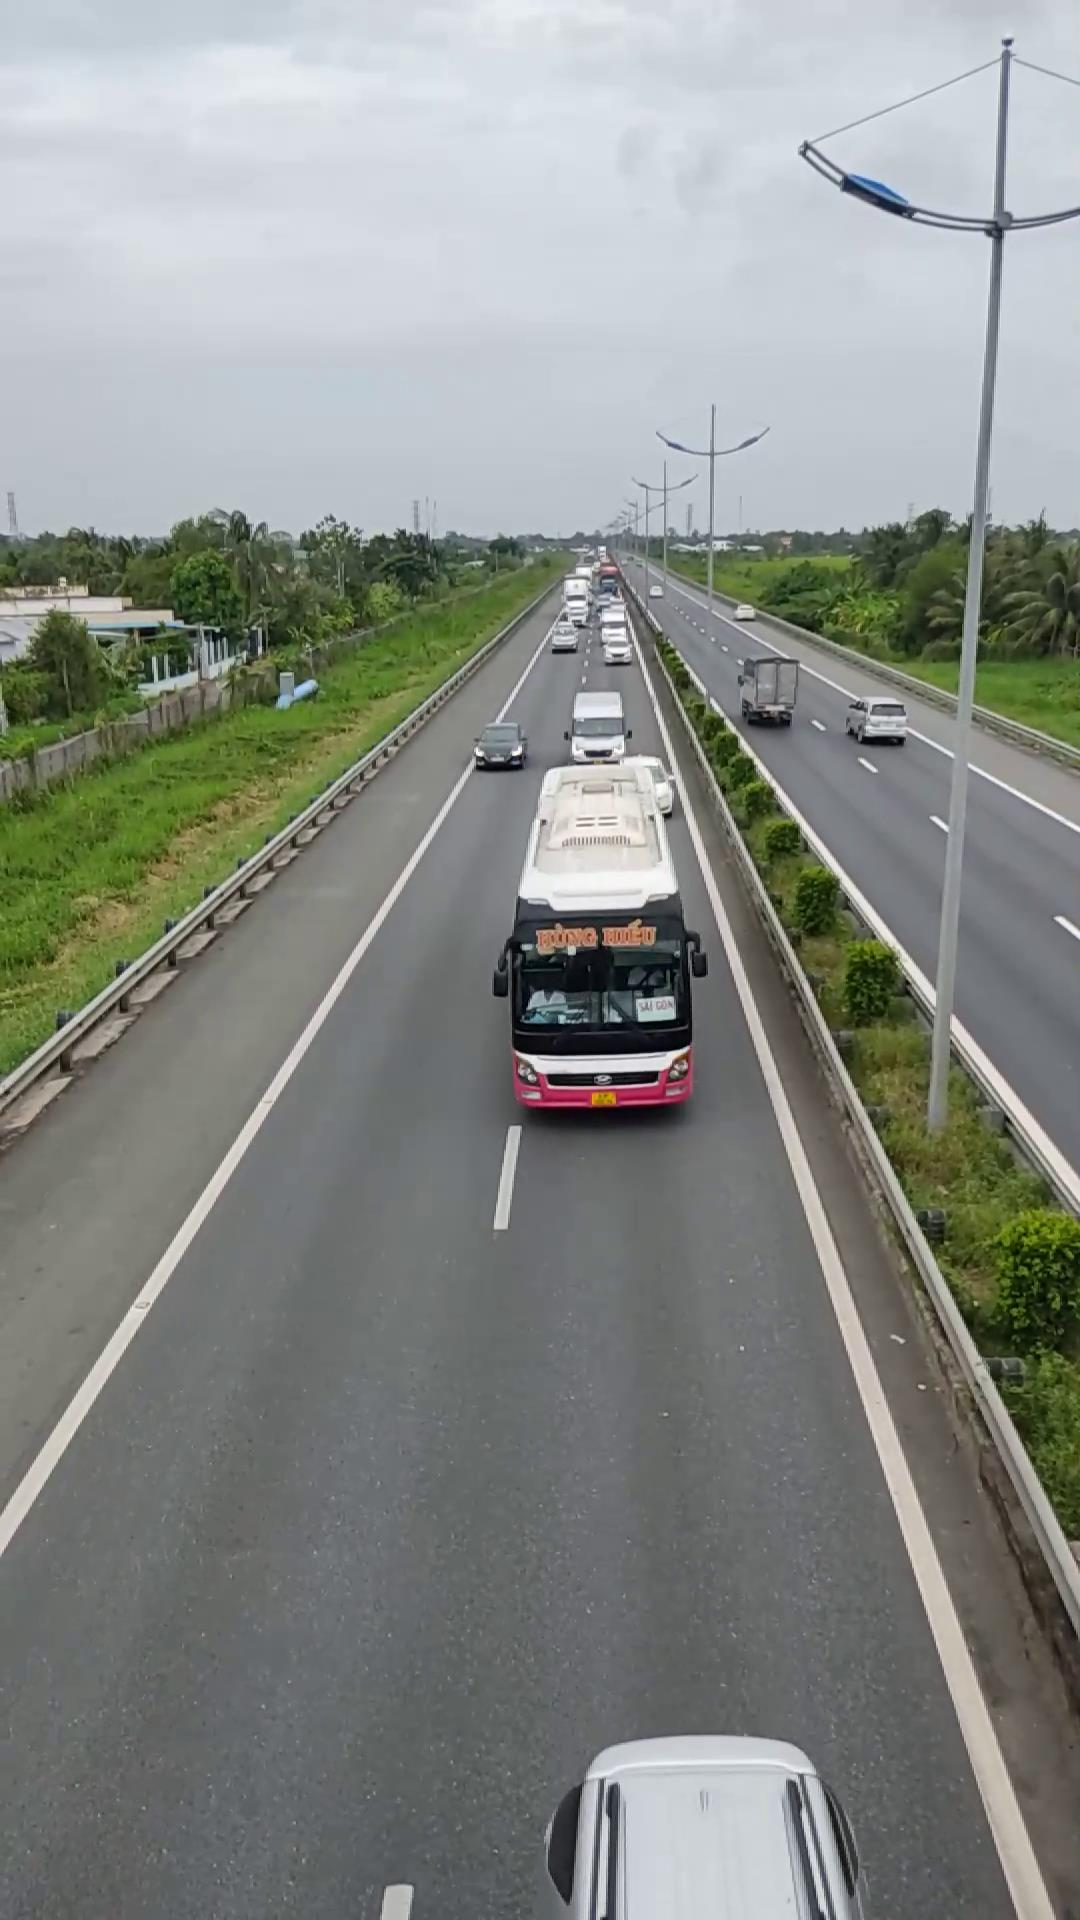bus: (493, 756, 702, 1116)
car: (543, 1733, 866, 1919)
truck: (737, 653, 796, 724)
